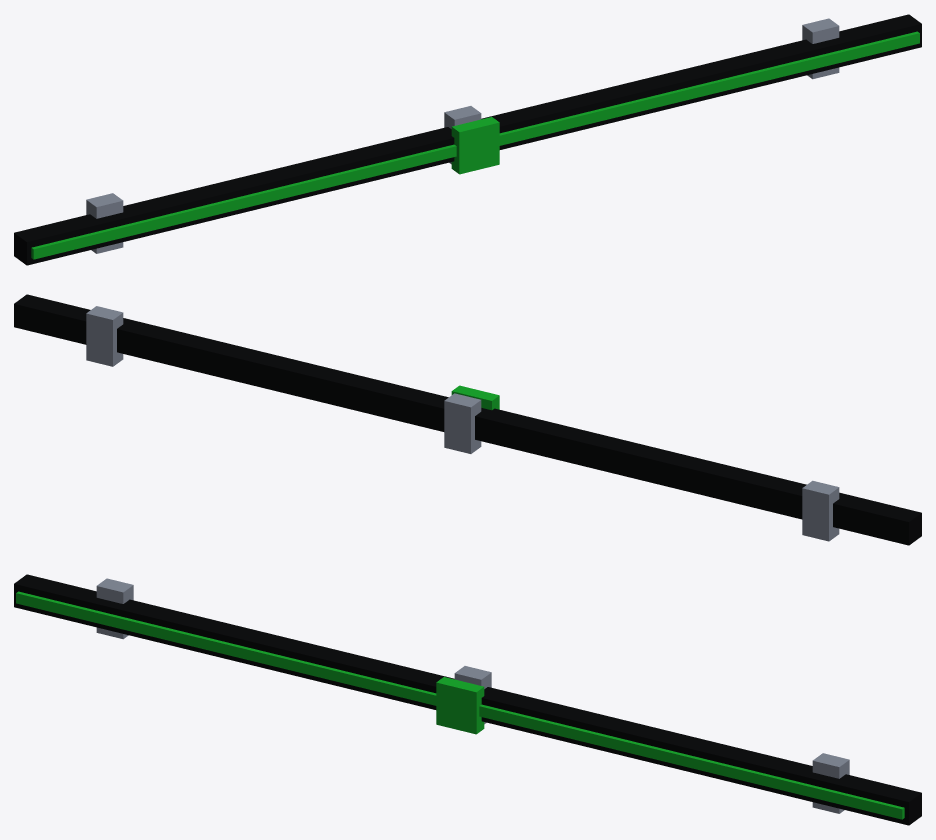
The model's file is SM_Cable_Straight_2m_Green.glb.
The picture shows the model from 3 angles, top to bottom: view 1: azimuth 30°, elevation 25°; view 2: azimuth 150°, elevation 25°; view 3: azimuth 330°, elevation 25°; orthographic projection.
Parts seen in each view (by area): view 1: SM_Cable_Straight_2m_Green; view 2: SM_Cable_Straight_2m_Green; view 3: SM_Cable_Straight_2m_Green.
Boxes of the visible parts, x1,y1,x2,y2 form: SM_Cable_Straight_2m_Green: [14, 14, 921, 265]; SM_Cable_Straight_2m_Green: [14, 294, 921, 545]; SM_Cable_Straight_2m_Green: [14, 574, 921, 825].
Bounding box in the file's own units: 2 × 0.1 × 0.085.
